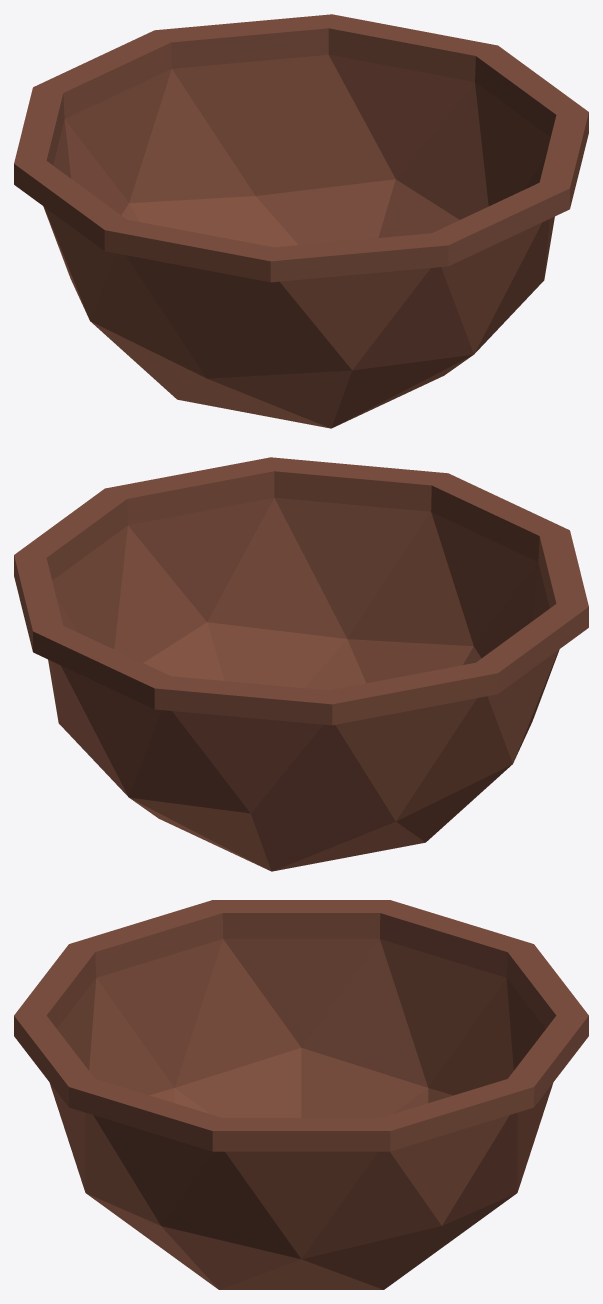
The model's file is Basket.fbx.
The picture shows the model from 3 angles, top to bottom: view 1: azimuth 30°, elevation 25°; view 2: azimuth 150°, elevation 25°; view 3: azimuth 270°, elevation 25°; orthographic projection. The views are drawn at different scales.
Visible parts, largest first — view 1: Basket; view 2: Basket; view 3: Basket.
Boxes of the visible parts, left/top/right/bottom form: Basket: left=14, top=14, right=588, bottom=428; Basket: left=14, top=457, right=588, bottom=871; Basket: left=14, top=900, right=588, bottom=1289.
Size of the model in its own units: 205 by 108 by 215.
